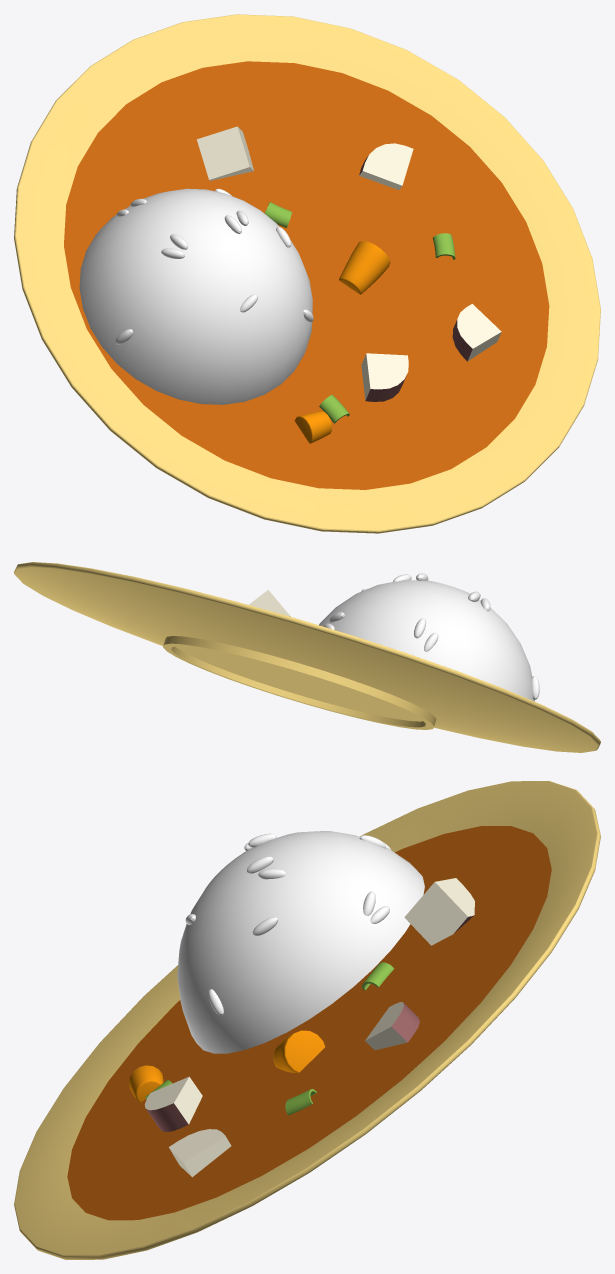
File: curry_rice.gltf
3 renders of one model, top to bottom at view 1: azimuth 30°, elevation 25°; view 2: azimuth 150°, elevation 25°; view 3: azimuth 270°, elevation 25°, orthographic. The views are drawn at different scales.
Parts seen in each view (by area): view 1: Cube.420; view 2: Cube.420; view 3: Cube.420.
Boxes of the visible parts, left/top/right/bottom form: Cube.420: left=14, top=14, right=600, bottom=533; Cube.420: left=14, top=562, right=600, bottom=752; Cube.420: left=14, top=781, right=600, bottom=1259.
Bounding box in the file's own units: 2.43 × 1.4 × 1.99.
1 material, 1 textured.
